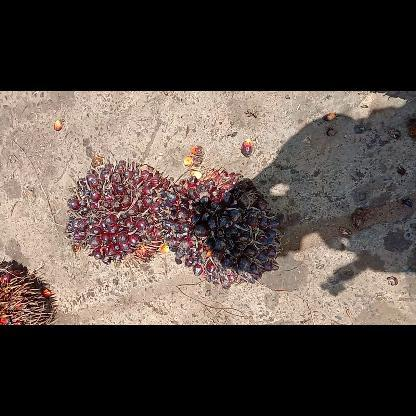Kurang masak: (160, 168, 288, 290), (61, 156, 175, 270)
